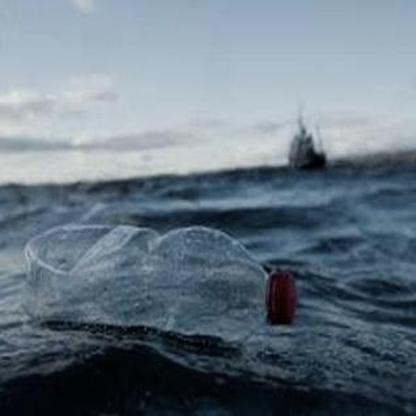plastic bottle: (24, 223, 297, 346)
